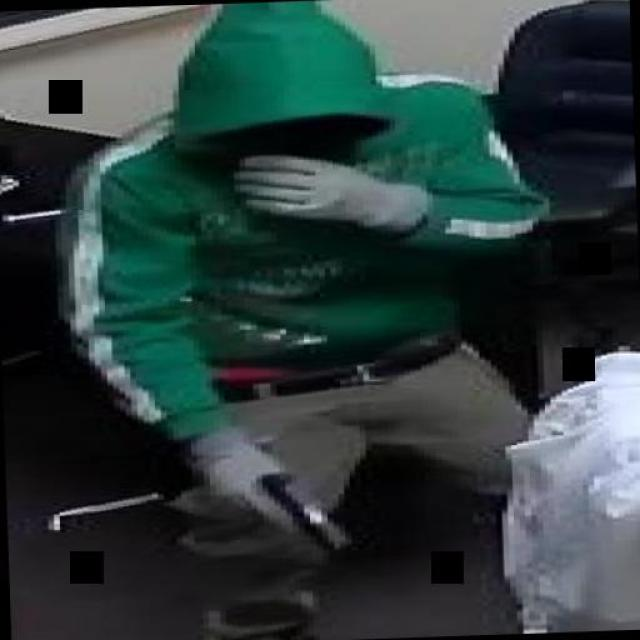gun: (202, 458, 352, 552)
